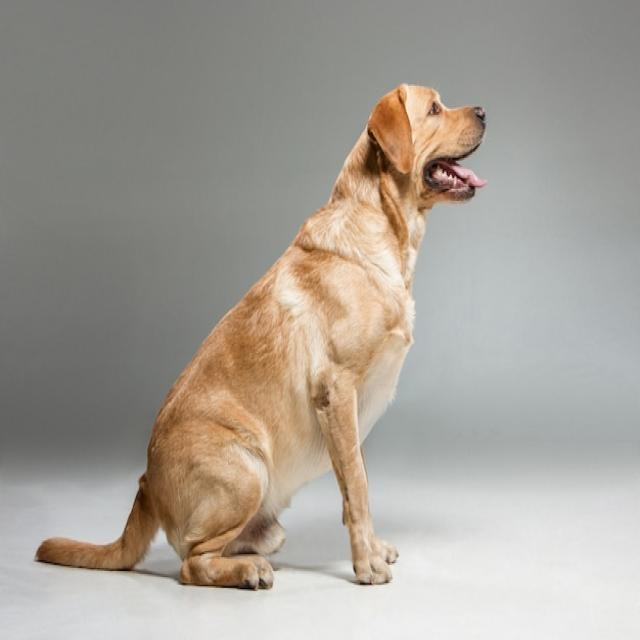Dog: (34, 82, 486, 589)
